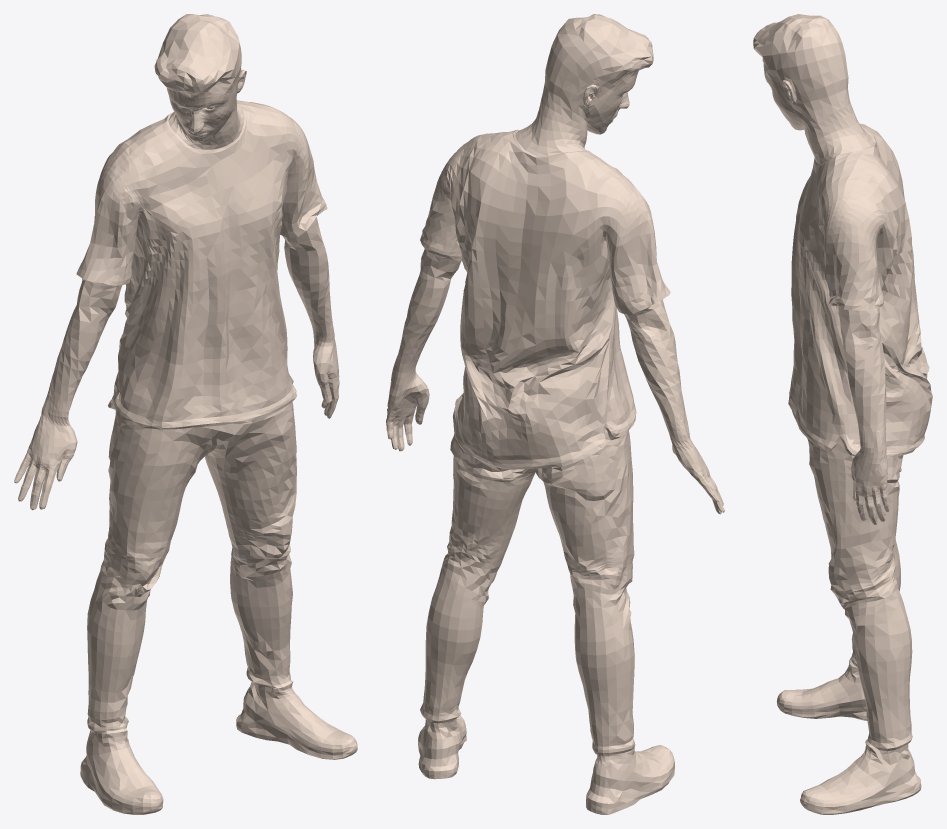
Rendered from male.glb.
The picture shows the model from 3 angles, left to right: view 1: azimuth 30°, elevation 25°; view 2: azimuth 150°, elevation 25°; view 3: azimuth 270°, elevation 25°; orthographic projection. The views are drawn at different scales.
Bounding box in the file's own units: 83.15 × 185 × 41.6.
